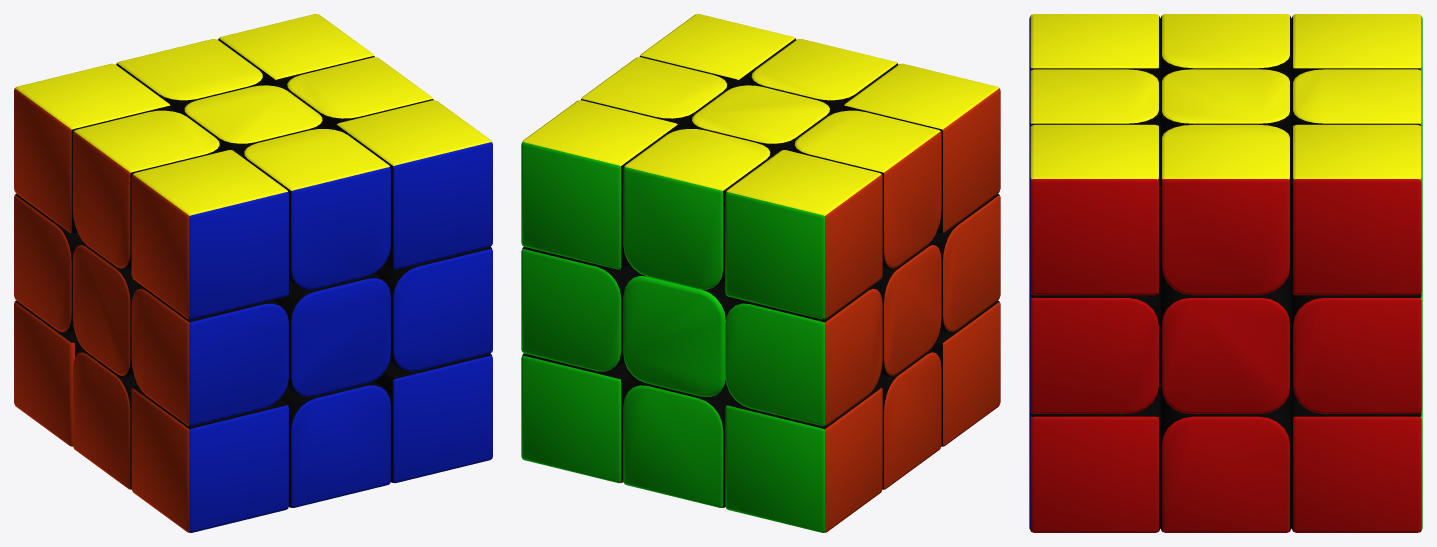
The model's file is FullCube.obj.
3 views of the same model, side by side, from view 1: azimuth 30°, elevation 25°; view 2: azimuth 150°, elevation 25°; view 3: azimuth 270°, elevation 25° (orthographic). The views are drawn at different scales.
Visible parts, largest first — view 1: Cube.011, Cube.007, Cube.026, Cube.020, Cube.017, Cube.010, Cube.012, Cube.003, Cube.018, Cube.008, Cube.023, Cube.006 (+7 smaller); view 2: Cube.010, Cube.006, Cube.016, Cube.021, Cube.009, Cube.011, Cube.012, Cube.001, Cube.019, Cube, Cube.022, Cube.007 (+7 smaller); view 3: Cube.026, Cube.016, Cube.013, Cube.004, Cube.001, Cube.003, Cube.002, Cube.018, Cube.019, Cube.012, Cube.010, Cube.011 (+3 smaller).
Part boxes in pixels (x1,y1,x2,y2): Cube.011: [131, 150, 288, 319]; Cube.007: [131, 385, 288, 532]; Cube.026: [335, 100, 492, 269]; Cube.020: [131, 286, 288, 426]; Cube.017: [243, 129, 390, 289]; Cube.010: [14, 63, 171, 233]; Cube.012: [73, 110, 220, 269]; Cube.003: [374, 353, 492, 483]; Cube.018: [375, 246, 492, 371]; Cube.008: [280, 381, 390, 507]; Cube.023: [274, 273, 390, 396]; Cube.006: [14, 300, 84, 446]; Cube.010: [725, 150, 882, 319]; Cube.006: [725, 385, 882, 532]; Cube.016: [521, 100, 678, 269]; Cube.021: [725, 286, 882, 426]; Cube.009: [623, 129, 771, 289]; Cube.011: [843, 63, 1000, 233]; Cube.012: [793, 110, 941, 269]; Cube.001: [521, 353, 639, 483]; Cube.019: [521, 246, 639, 371]; Cube: [623, 381, 733, 507]; Cube.022: [623, 273, 740, 396]; Cube.007: [930, 300, 1000, 446]; Cube.026: [1029, 124, 1160, 295]; Cube.016: [1291, 124, 1422, 295]; Cube.013: [1160, 124, 1291, 295]; Cube.004: [1160, 395, 1291, 532]; Cube.001: [1291, 386, 1422, 532]; Cube.003: [1029, 386, 1160, 532]; Cube.002: [1160, 269, 1291, 413]; Cube.018: [1029, 291, 1160, 413]; Cube.019: [1291, 291, 1422, 413]; Cube.012: [1160, 14, 1291, 84]; Cube.010: [1291, 14, 1422, 84]; Cube.011: [1029, 14, 1160, 84].
Size of the model in its own units: 6 by 6 by 6.
